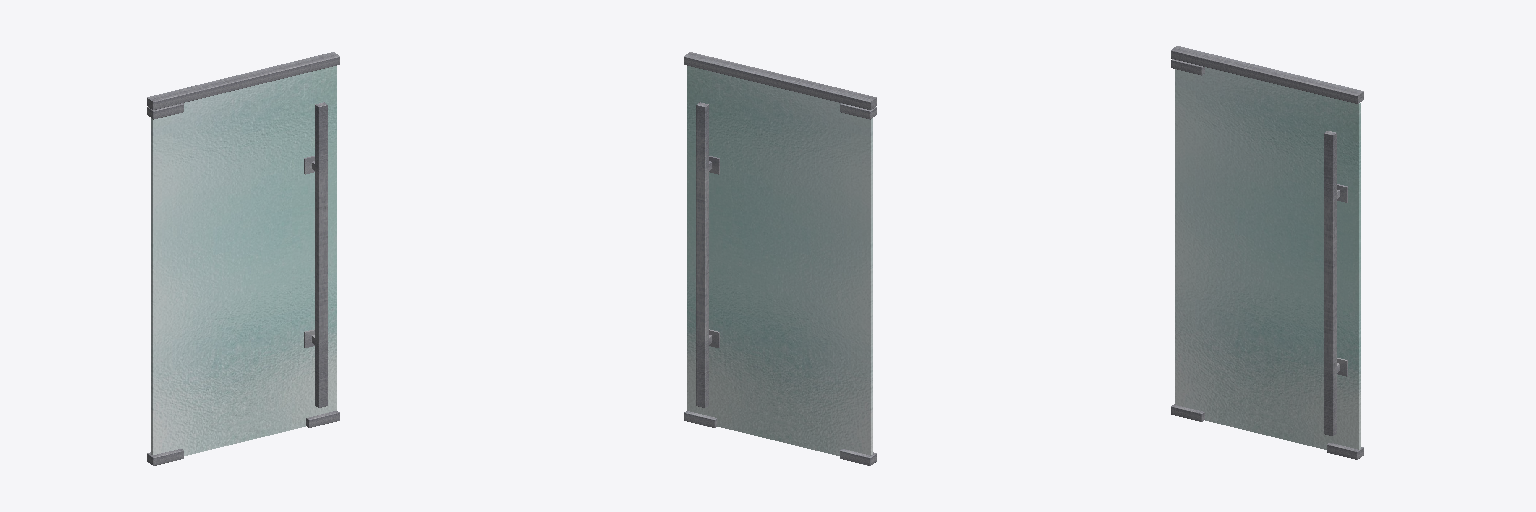
3 views of the same model, side by side, from view 1: azimuth 30°, elevation 25°; view 2: azimuth 150°, elevation 25°; view 3: azimuth 330°, elevation 25° (orthographic).
Parts seen in each view (by area): view 1: Object004, ChamferBox002, ChamferBox001, ChamferBox003; view 2: Object004, ChamferBox002, ChamferBox001, ChamferBox003; view 3: Object004, ChamferBox002, ChamferBox001, ChamferBox003.
Boxes of the visible parts, x1,y1,x2,y2 form: Object004: [151, 66, 336, 455]; ChamferBox002: [304, 102, 327, 407]; ChamferBox001: [147, 52, 339, 109]; ChamferBox003: [147, 103, 339, 465]; Object004: [687, 66, 872, 455]; ChamferBox002: [696, 102, 719, 407]; ChamferBox001: [684, 52, 876, 109]; ChamferBox003: [684, 103, 876, 465]; Object004: [1175, 67, 1360, 449]; ChamferBox002: [1324, 131, 1347, 435]; ChamferBox001: [1171, 46, 1363, 103]; ChamferBox003: [1171, 59, 1363, 459].
Size of the model in its own units: 1.83 by 3 by 0.2807.
Materials: 2 (2 with a texture image).